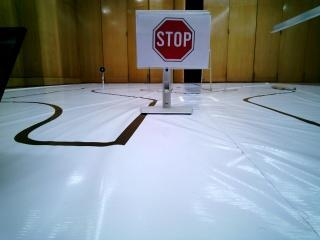stop: (139, 10, 206, 67)
